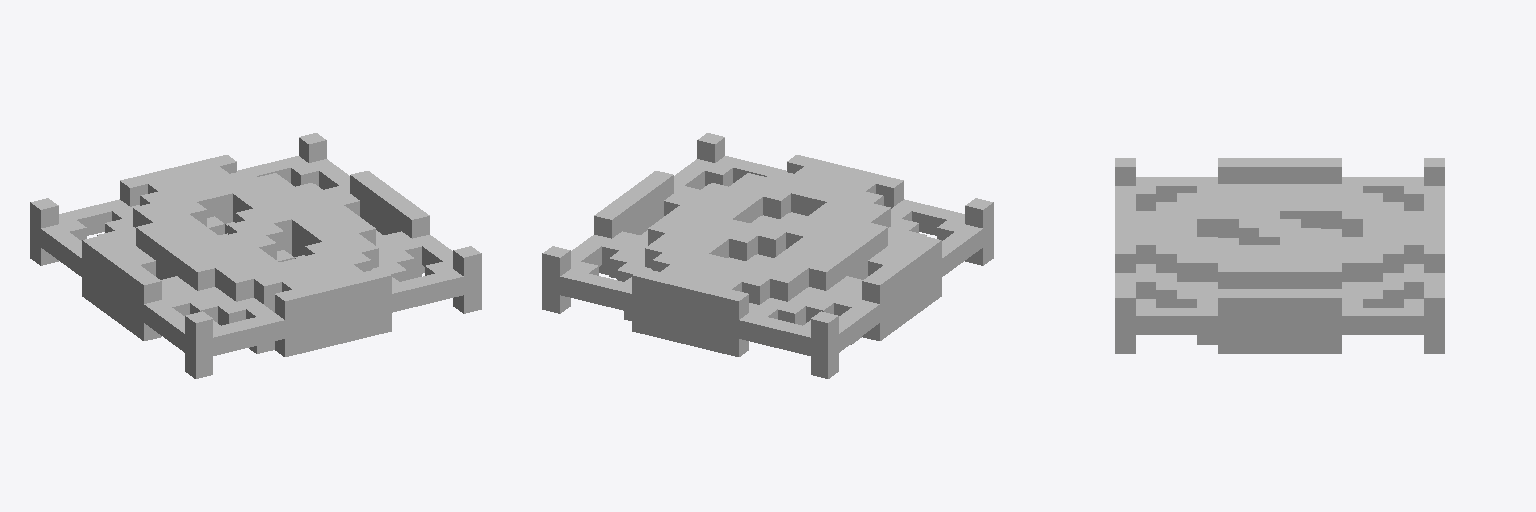
The model's file is NullPlate.obj.
3 renders of one model, left to right at view 1: azimuth 30°, elevation 25°; view 2: azimuth 150°, elevation 25°; view 3: azimuth 270°, elevation 25°, orthographic.
Parts seen in each view (by area): view 1: object 1; view 2: object 1; view 3: object 1.
Boxes of the visible parts, <box> form: object 1: <box>30,133,481,378</box>; object 1: <box>542,133,993,378</box>; object 1: <box>1115,158,1444,353</box>.
Bounding box in the file's own units: 1.6 × 0.3 × 1.6.